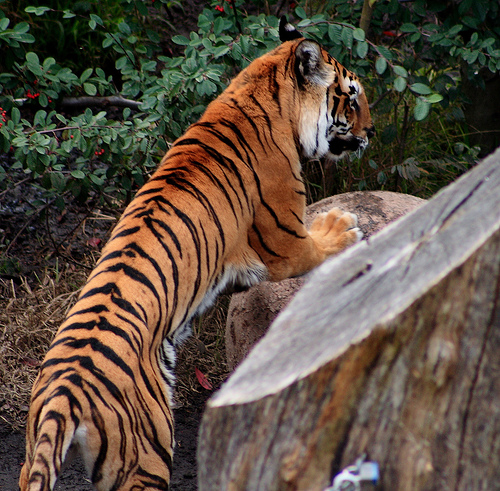Tigre: (18, 52, 378, 479)
